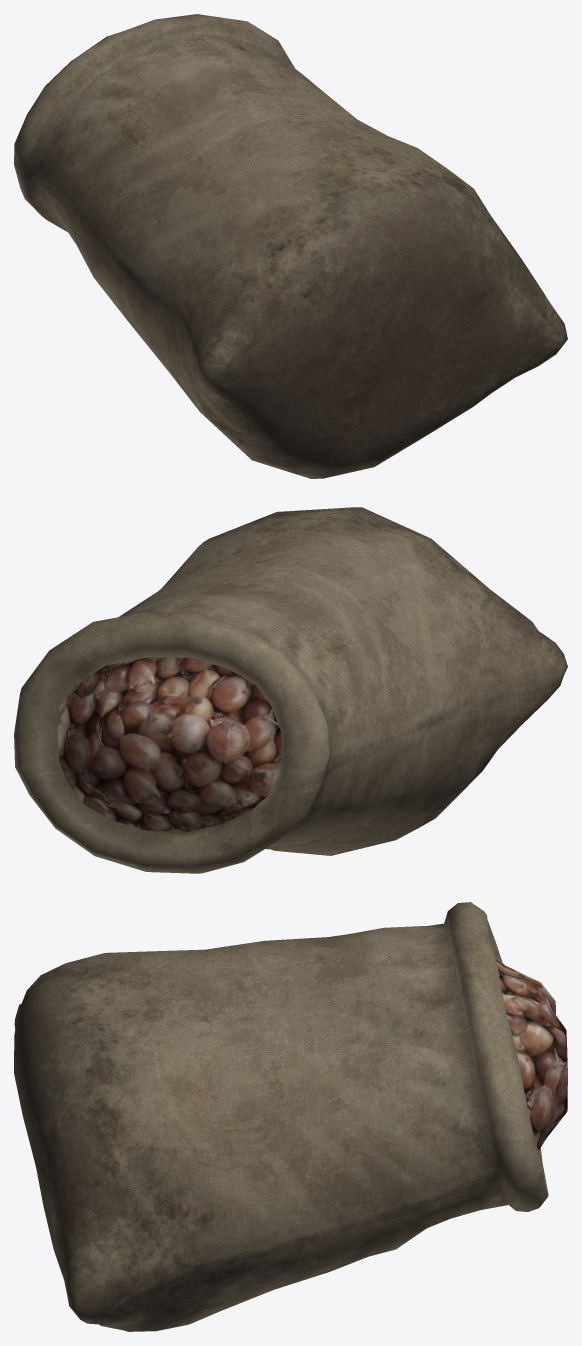
The model's file is Sack_Bag_04.glb.
3 renders of one model, top to bottom at view 1: azimuth 30°, elevation 25°; view 2: azimuth 150°, elevation 25°; view 3: azimuth 270°, elevation 25°, orthographic. The views are drawn at different scales.
Parts seen in each view (by area): view 1: SM_Sack_Bag_04; view 2: SM_Sack_Bag_04; view 3: SM_Sack_Bag_04.
Boxes of the visible parts, <box> form: SM_Sack_Bag_04: <box>14,14,567,478</box>; SM_Sack_Bag_04: <box>14,507,567,873</box>; SM_Sack_Bag_04: <box>14,902,567,1331</box>.
Size of the model in its own units: 0.7895 by 0.661 by 0.8993.
Materials: 2 (2 with a texture image).
